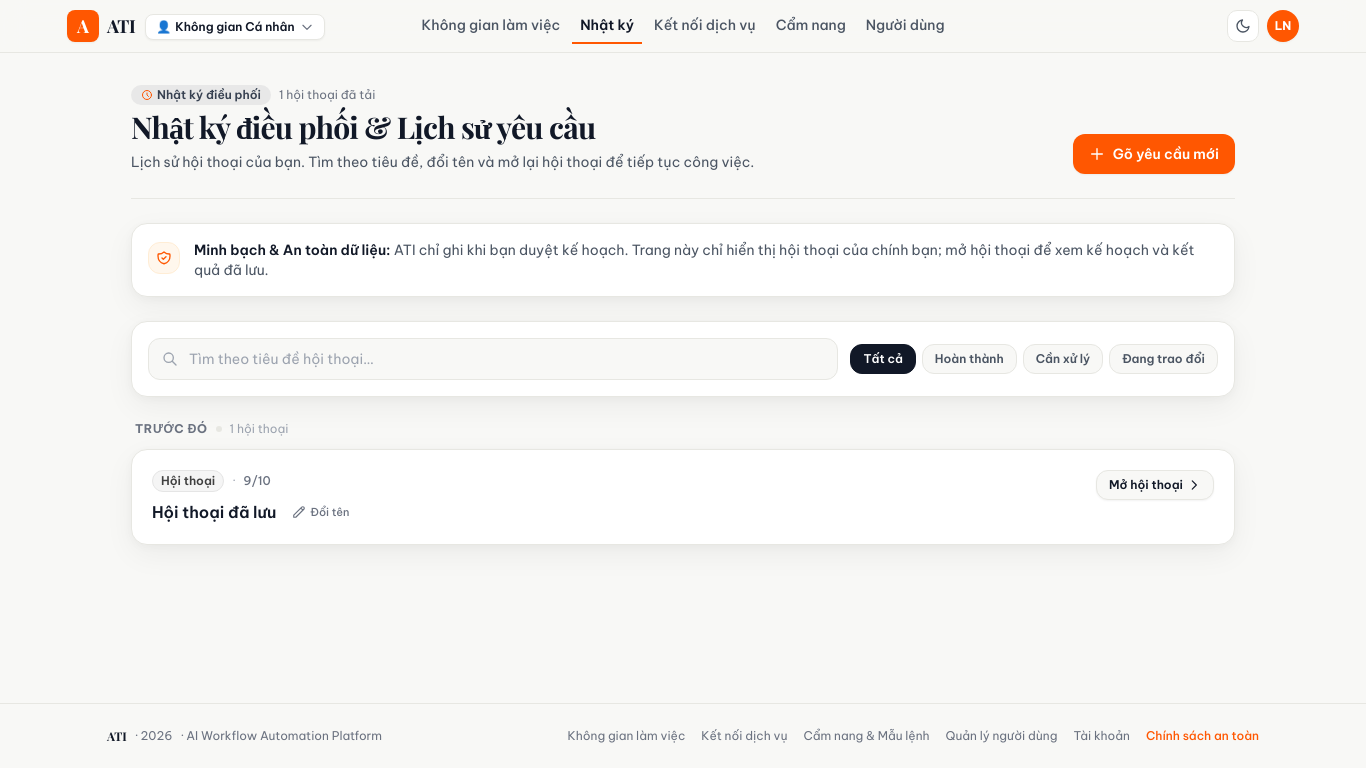
releases saving after a search changes while an older rename response is pending
The width and height of the screenshot is (1366, 768).
Step 1. Click the button "Đổi tên" → [321, 512], box [284,500,357,524]
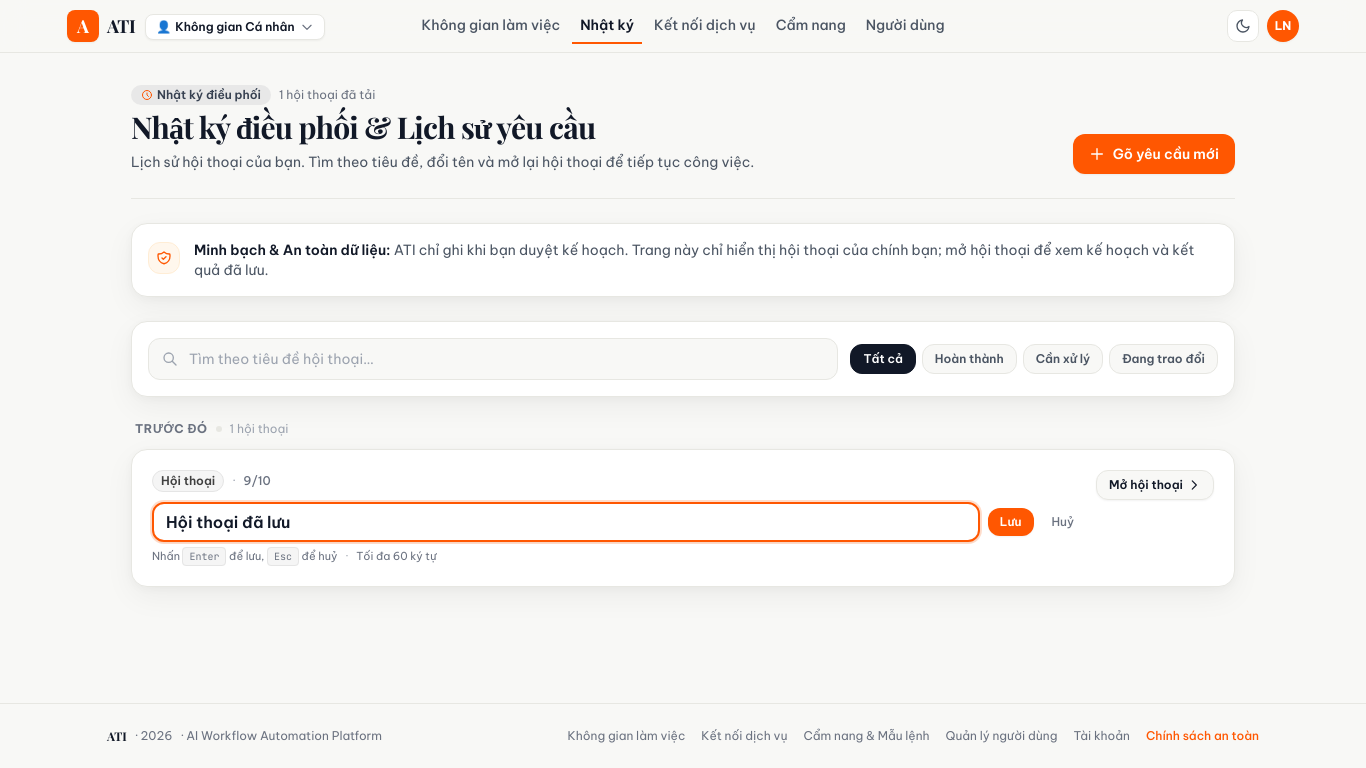
Step 2. Replace the text in the field named "tiêu đề hội thoại" with "Old request" → [566, 522], box [152,502,980,542]
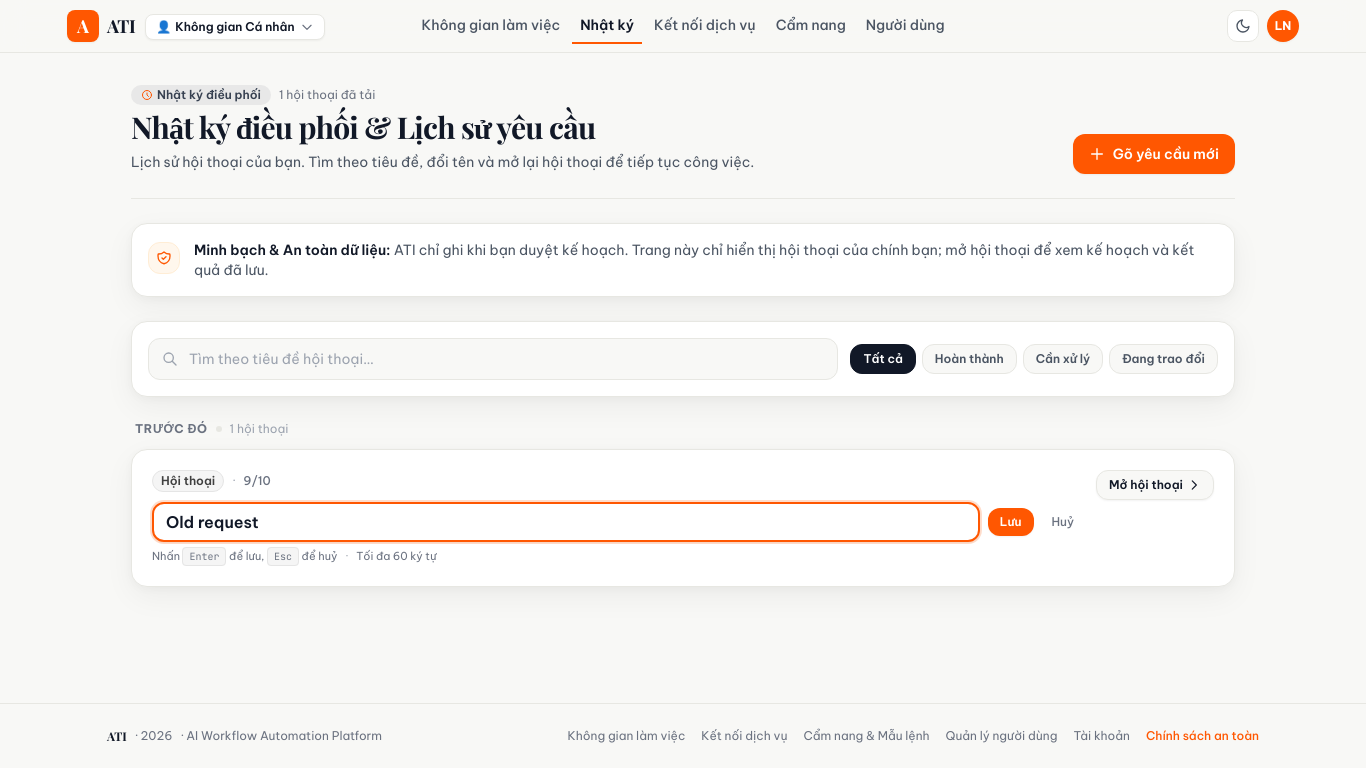
Step 3. Press Enter in the field named "tiêu đề hội thoại", box [152,502,980,542]
Step 4. Type "Changed search" into the search field → [493, 359], box [148,338,838,380]
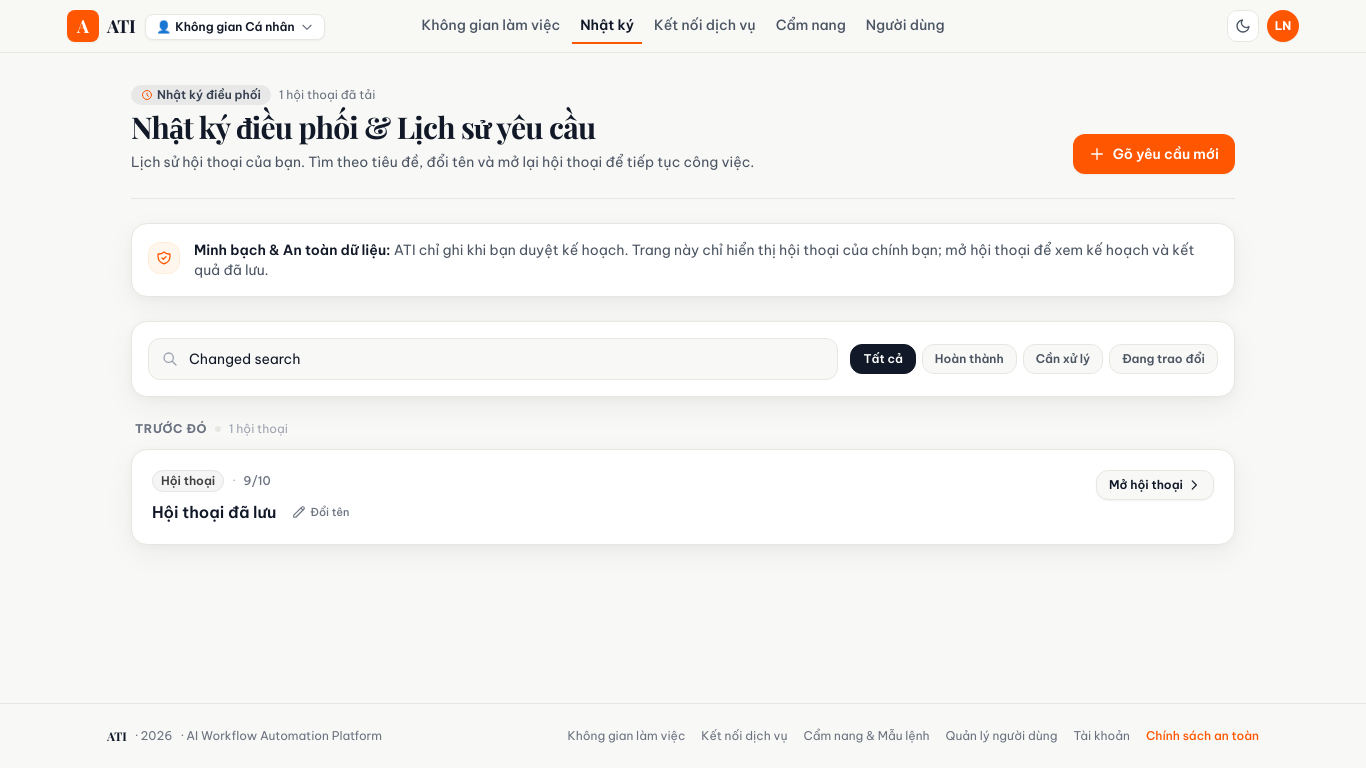
Step 5. Click the button "Đổi tên" → [321, 512], box [284,500,357,524]
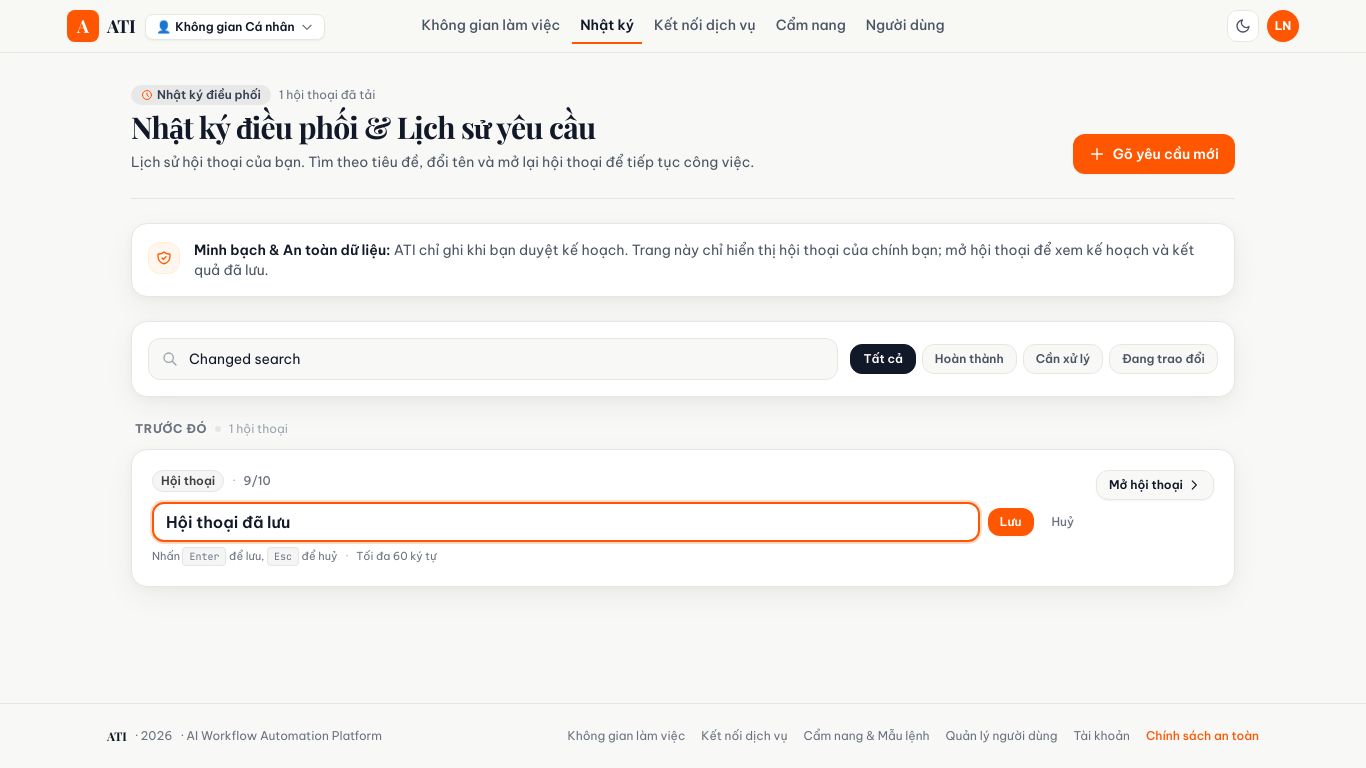
Expected: the button "Lưu" is enabled, [988,508,1034,536]
Expected: the field named "tiêu đề hội thoại" holds "Hội thoại đã lưu", [152,502,980,542]
